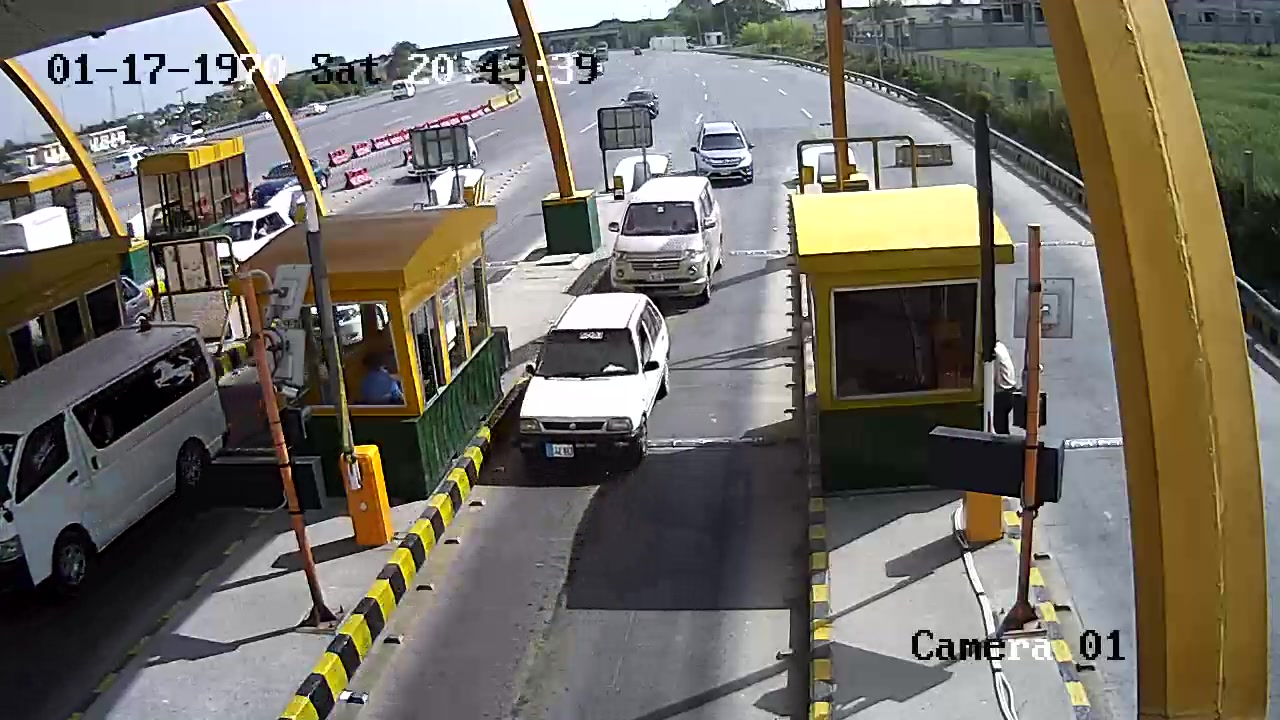F1: (499, 288, 682, 476)
